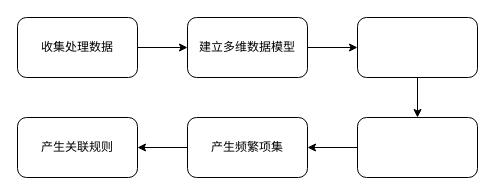
Image size: 495x195. Some labels were removed from this diagram. The centre of each missing label's shape, as x and y in pixels:
Apriori算法模型: [417,147]
设定相关指标 最小阈值: [417,47]
